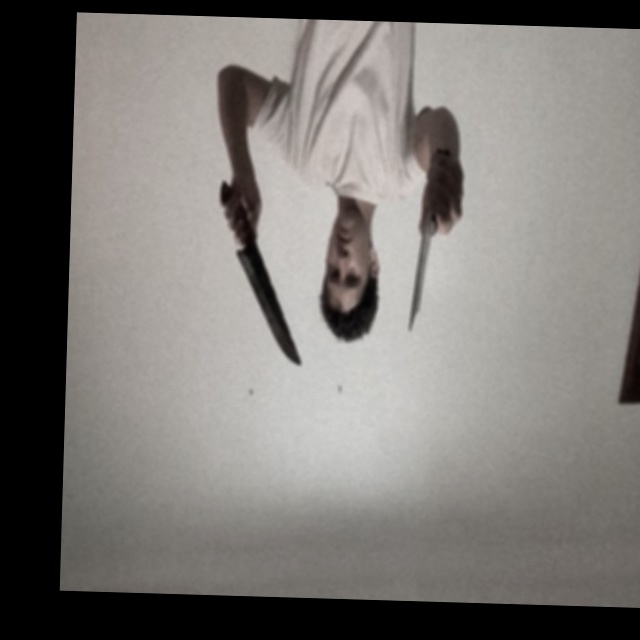Sharp-Object: (233, 248, 305, 366), (408, 223, 433, 333)
